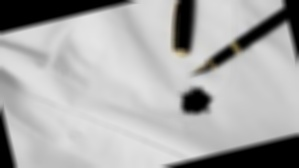ink: (177, 84, 213, 115)
